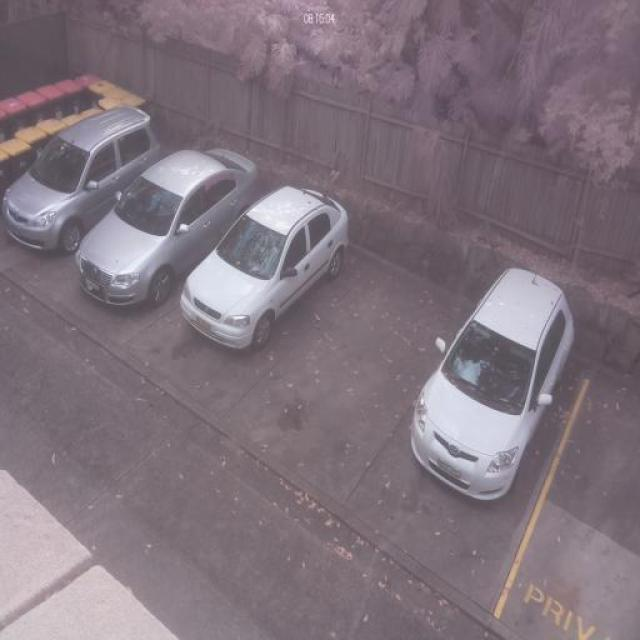Legalparking: (1, 52, 613, 549)
